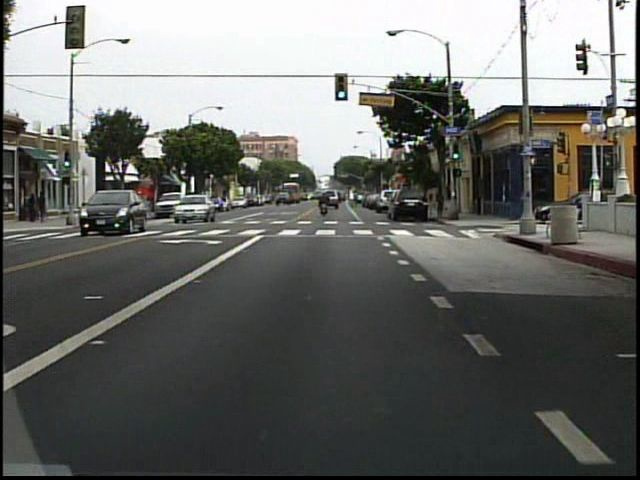person: (27, 192, 40, 225), (317, 189, 330, 217), (40, 190, 51, 223)
